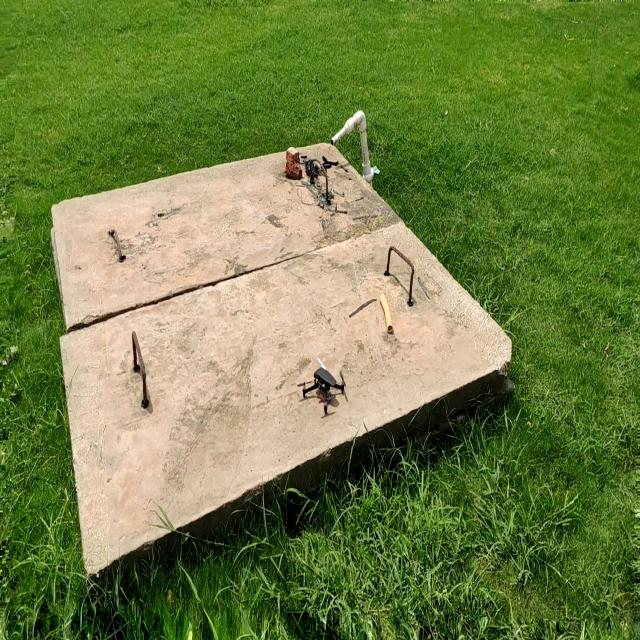drone: (297, 352, 356, 418)
